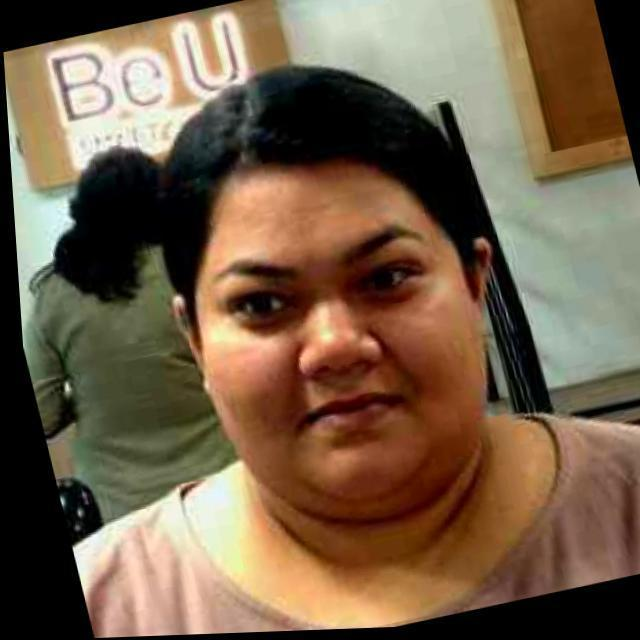puffy_eyes: (234, 312, 295, 335), (356, 282, 417, 304)
